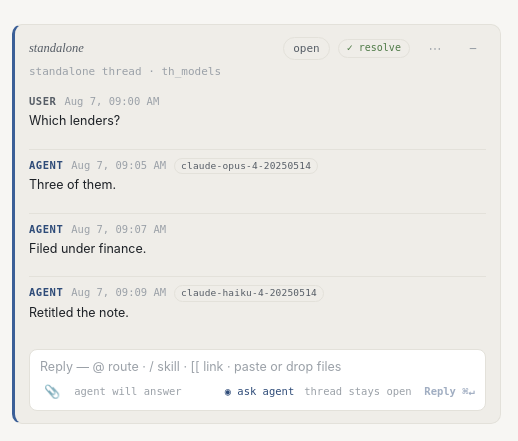
Test: a conversation of mixed turns › keeps the model out of the line the conversation folds down to
Expected: the text "Three of them." is shown, [29,177,116,192]
Click the button named "Collapse thread": [473, 48] box [460,36,486,62]
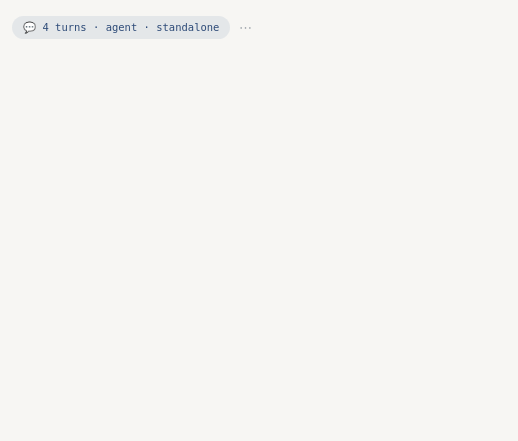
Now the button with class "t-chip" is shown, box [12,16,230,39]
Now the text "claude-opus-4-20250514" is gone
Now the text "claude-haiku-4-20250514" is gone
